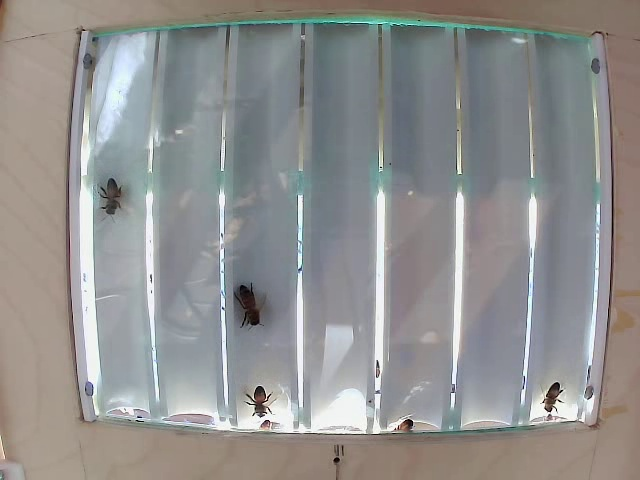bee: (232, 290, 268, 329), (241, 380, 275, 416), (97, 175, 126, 210)
